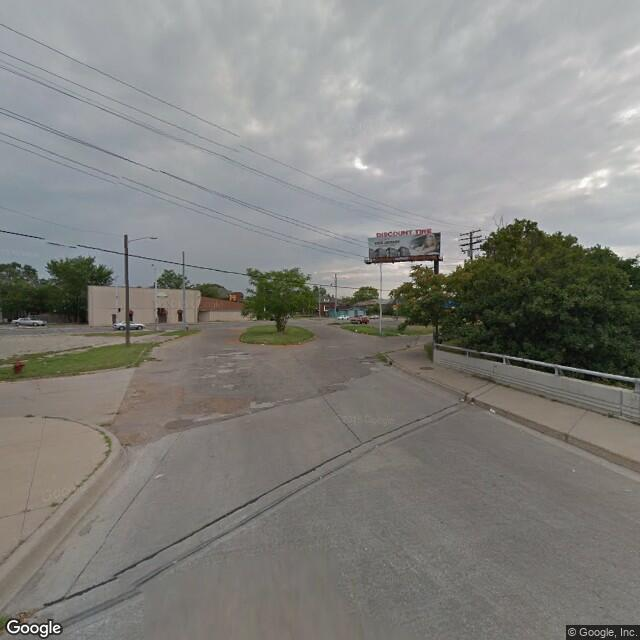litter: (487, 403, 498, 417)
